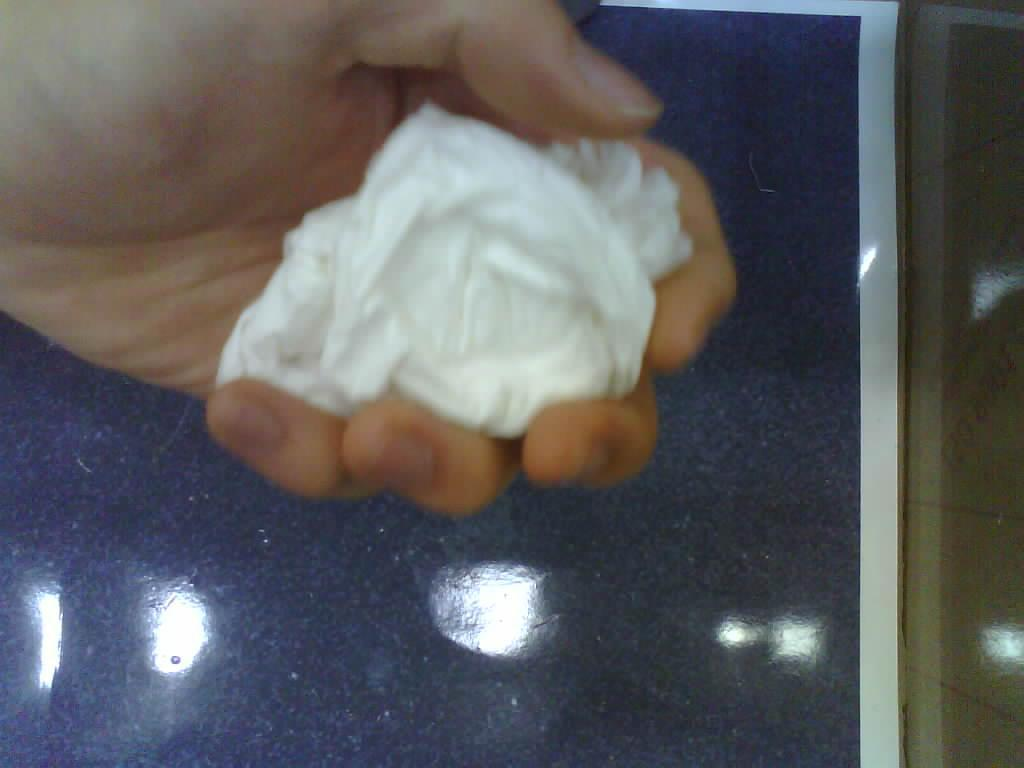paper: (207, 104, 692, 444)
